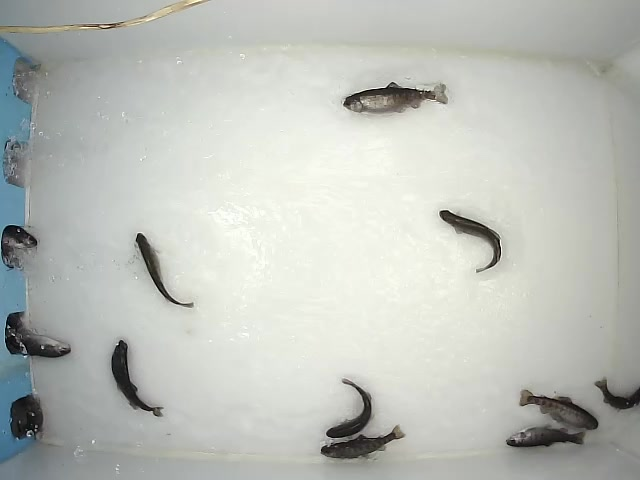fish: (135, 232, 194, 309), (110, 339, 166, 418), (438, 209, 503, 275), (342, 81, 450, 116), (518, 389, 600, 432), (320, 424, 407, 461), (325, 377, 376, 440), (504, 424, 586, 449)
